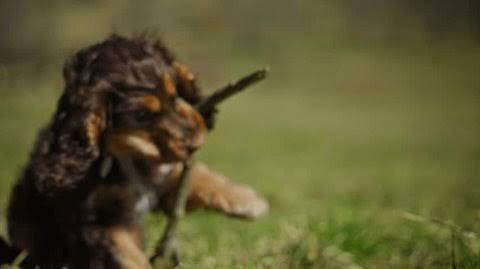puppy-dog: (5, 30, 274, 269)
